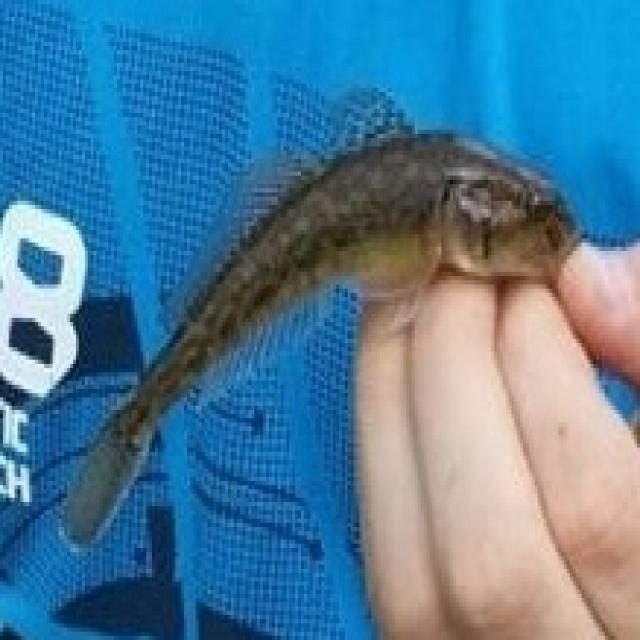Goby: (59, 57, 640, 596)
